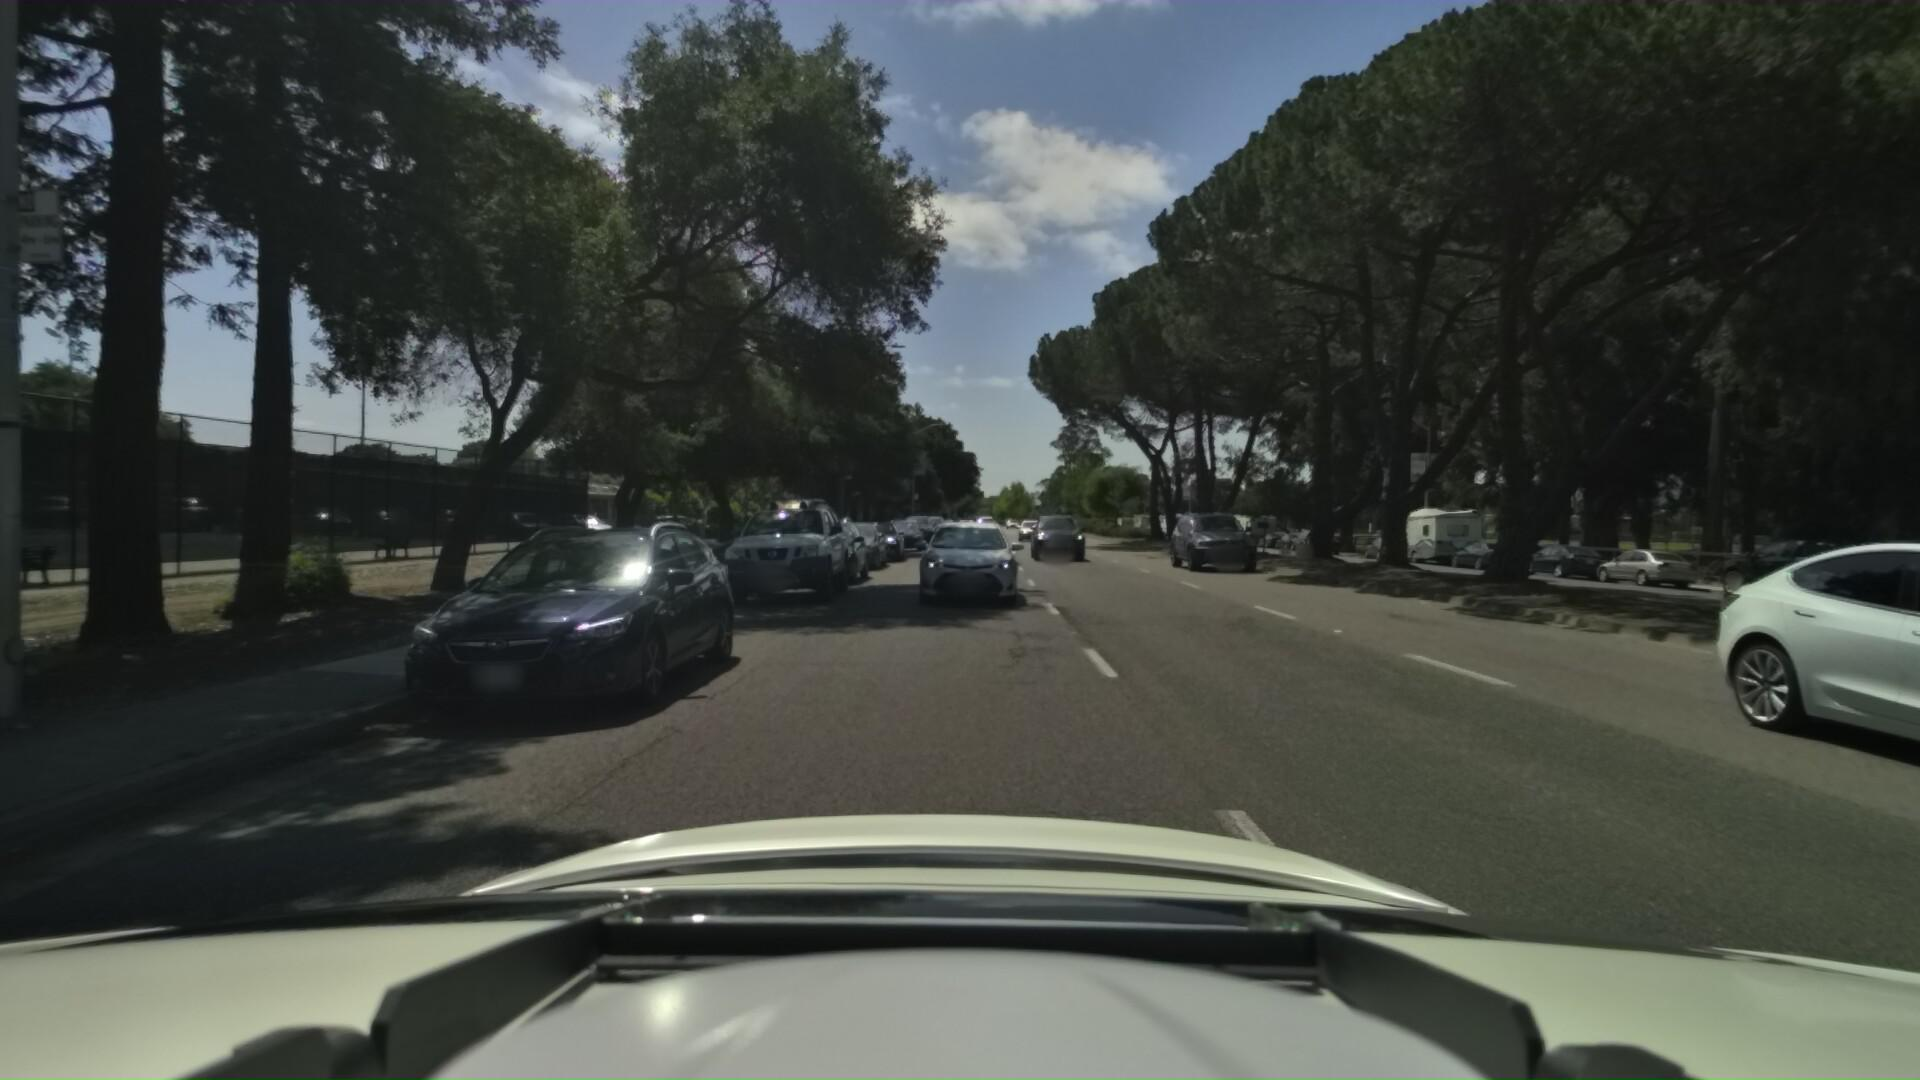car: (1575, 514, 1920, 844), (414, 512, 754, 740), (716, 489, 858, 608), (1688, 531, 1902, 603), (911, 512, 1022, 607), (781, 510, 873, 585), (1156, 504, 1247, 568), (1575, 538, 1691, 585), (1505, 534, 1601, 578), (818, 514, 890, 571), (1874, 549, 1920, 636), (1435, 531, 1518, 568), (1029, 508, 1085, 556), (920, 506, 975, 556), (849, 516, 907, 562), (880, 512, 927, 549), (1354, 527, 1403, 556), (899, 509, 939, 545), (1284, 522, 1323, 546), (916, 510, 948, 537), (1015, 512, 1046, 538)
other_vehicle: (1373, 500, 1481, 564)
